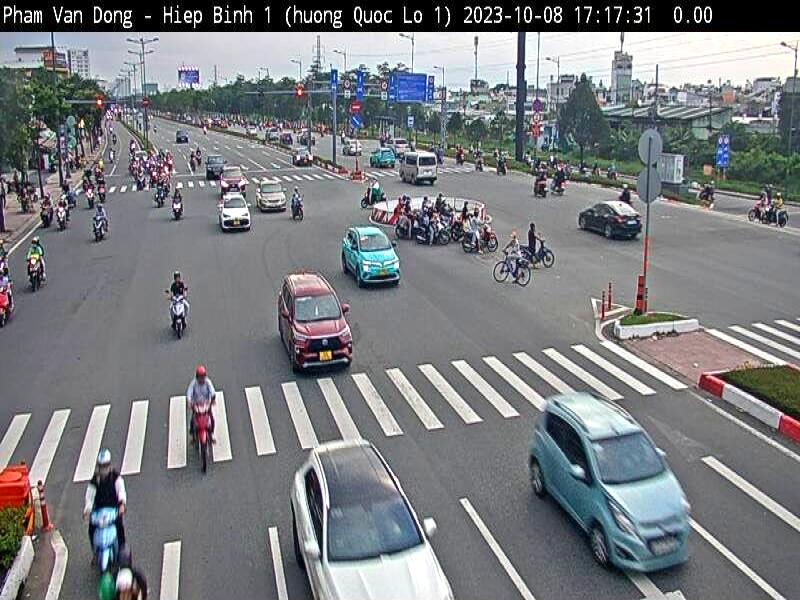car: (528, 393, 694, 573), (290, 433, 457, 600), (276, 272, 357, 372), (340, 225, 400, 288), (579, 202, 643, 239), (396, 152, 439, 187), (219, 195, 254, 234), (258, 182, 290, 213), (219, 172, 248, 193), (370, 150, 398, 169)
motorcycle: (189, 397, 217, 474), (163, 289, 190, 336), (534, 233, 554, 267), (26, 255, 41, 292), (170, 195, 185, 222), (92, 212, 106, 239), (53, 205, 68, 230)
